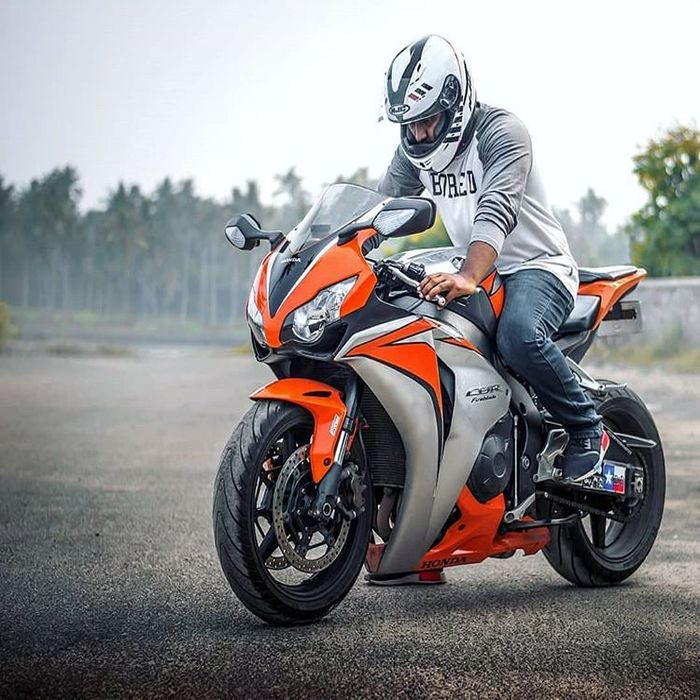h: (378, 30, 482, 173)
